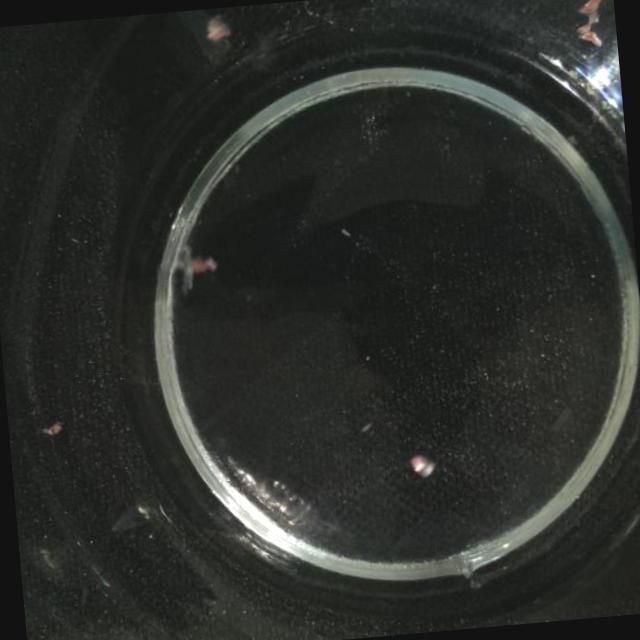fiber: (160, 216, 225, 301), (573, 0, 618, 53), (23, 402, 70, 450)
